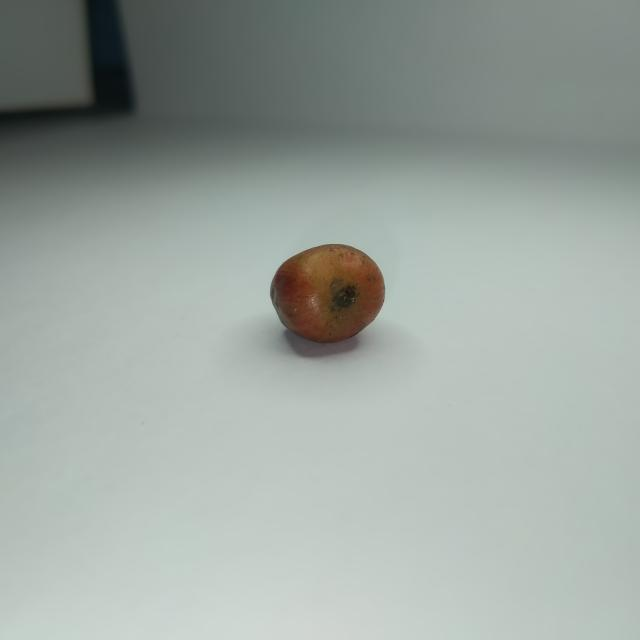Infectado: (270, 244, 384, 342)
